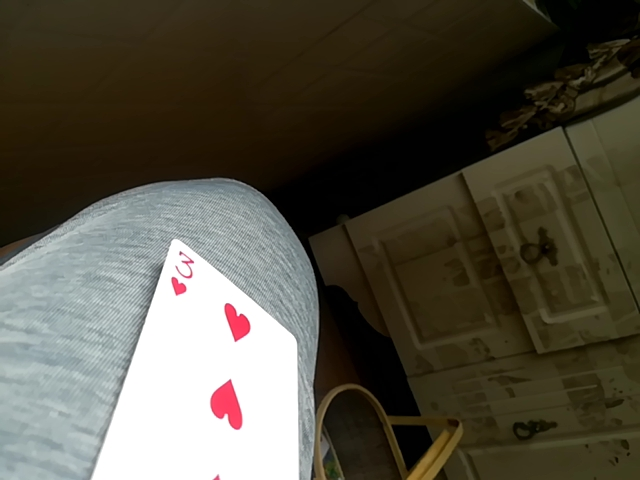hx 3: (74, 241, 307, 479)
